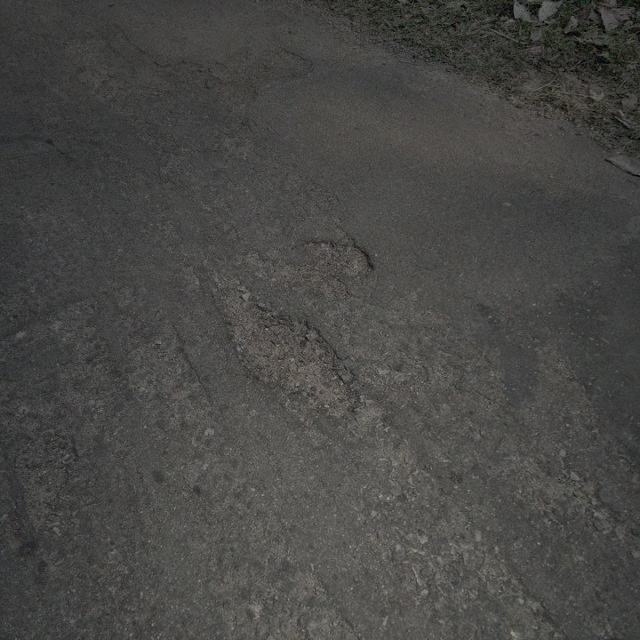pothole: (210, 282, 356, 417), (9, 434, 81, 529), (299, 235, 377, 282)
